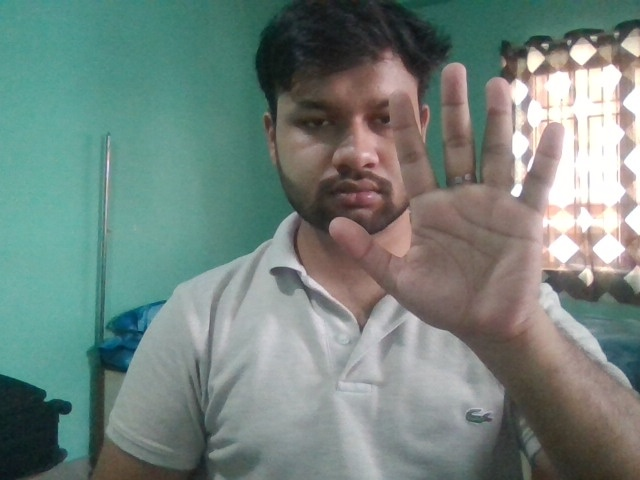Hello: (328, 62, 567, 347)
